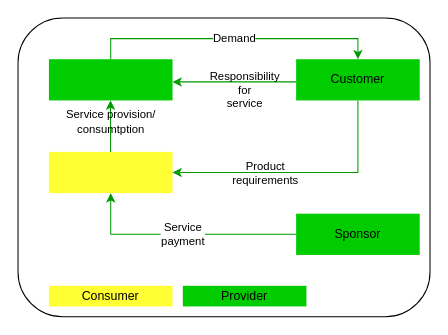
Image size: 448x335. Some labels were removed from this diagram. Here are the shapes that lost their labels. From the top down, the centre of each, then its label:
the point at 110,79: User
the point at 110,172: Service Provider
